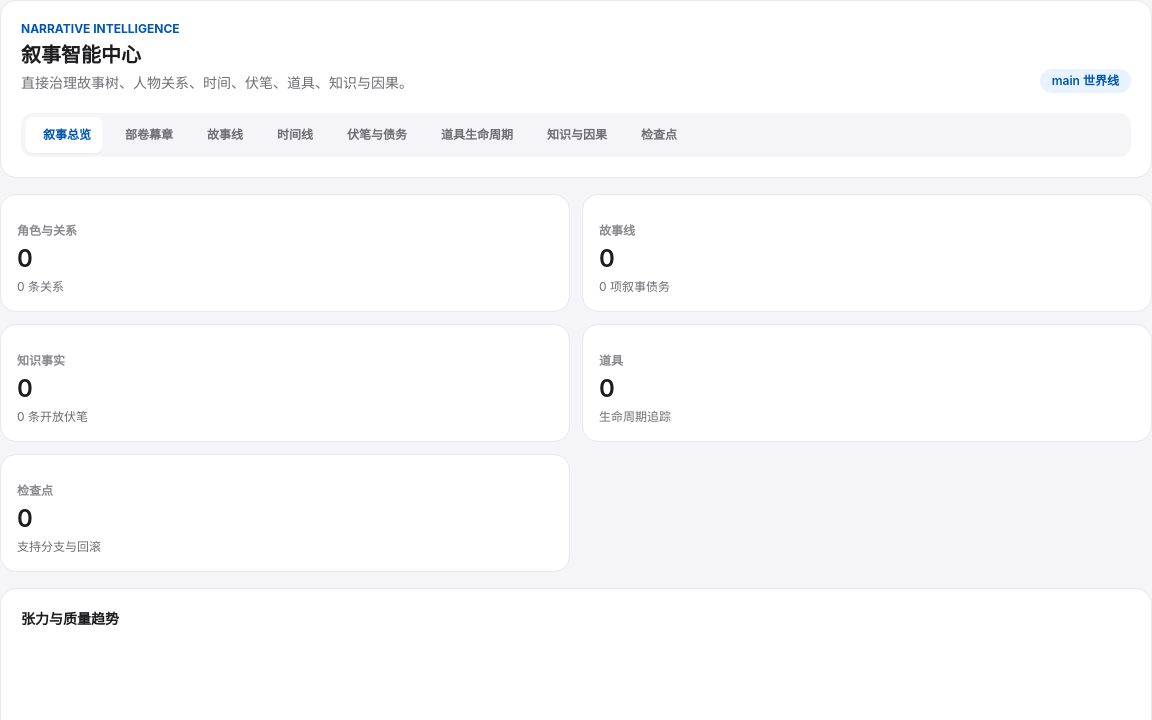
Test: NovelIntelligenceWorkspace continuity backfill › lets the author rebuild both empty views from existing chapter text
Click the button "时间线": (292, 135) left=259, top=117, right=325, bottom=153
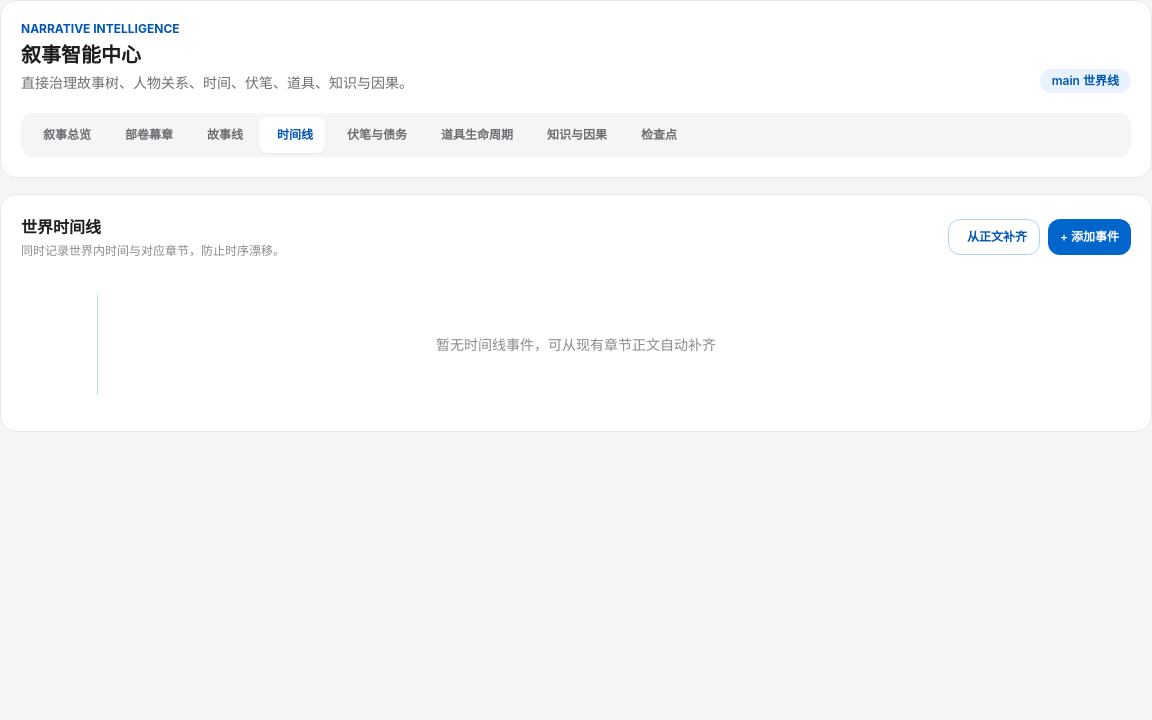
Click the button "从正文补齐": (994, 237) left=948, top=219, right=1040, bottom=255
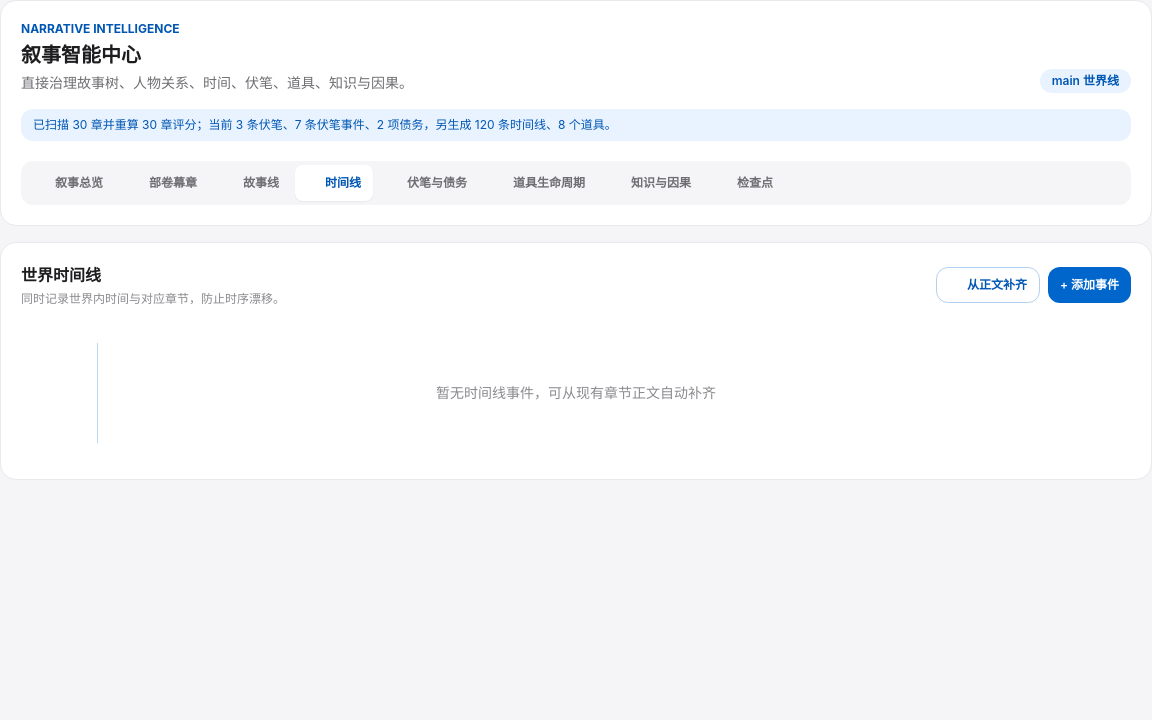
Now the text "已扫描 30 章并重算 30 章评分；当前 3 条伏笔、7 条伏笔事件、2 项债务" is shown, box left=33, top=117, right=617, bottom=132
